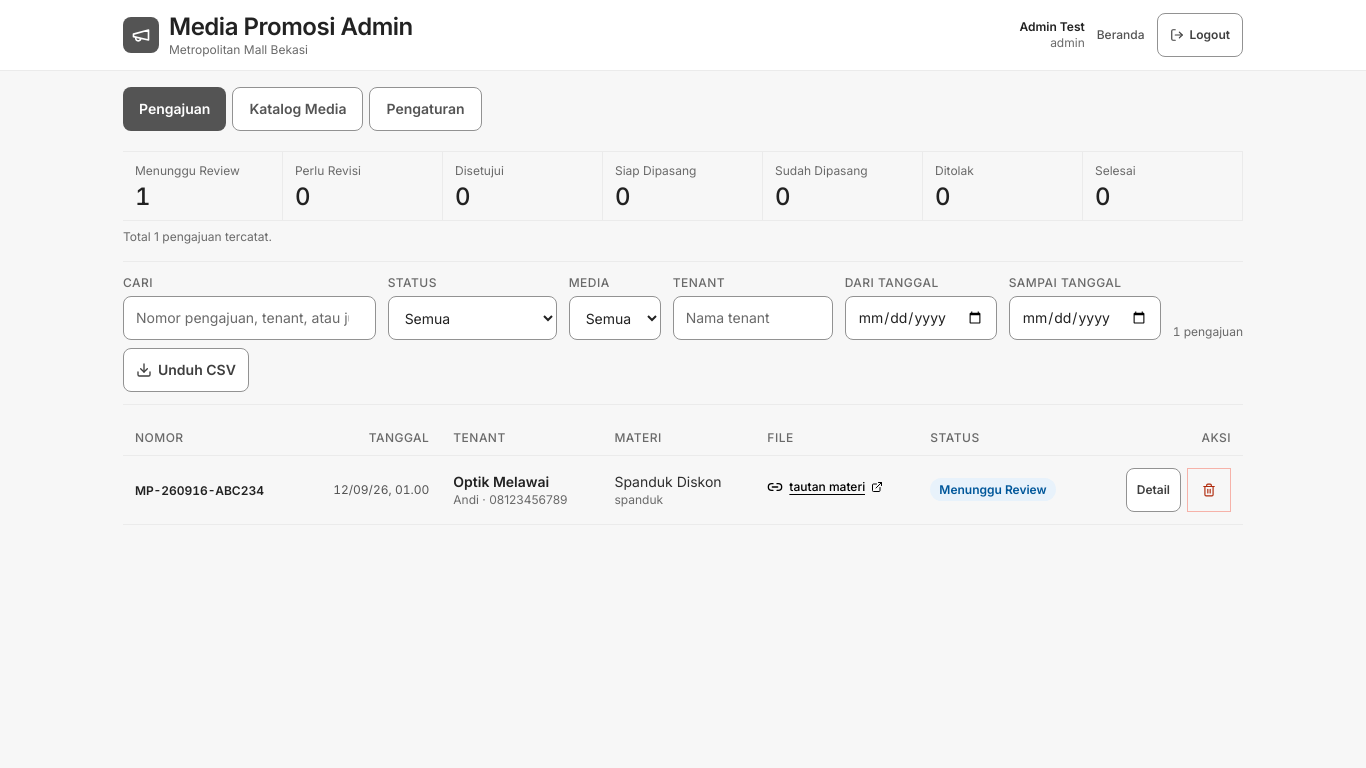
Test: AdminDashboardPage - kanal link dan upload tidak berubah › kanal link tetap menaut ke link_url di tabel dan Sheet
Expected: the text "Optik Melawai" is shown, [453, 472, 549, 490]
Click the button "Detail" at (1153, 490), box [1126, 468, 1181, 512]
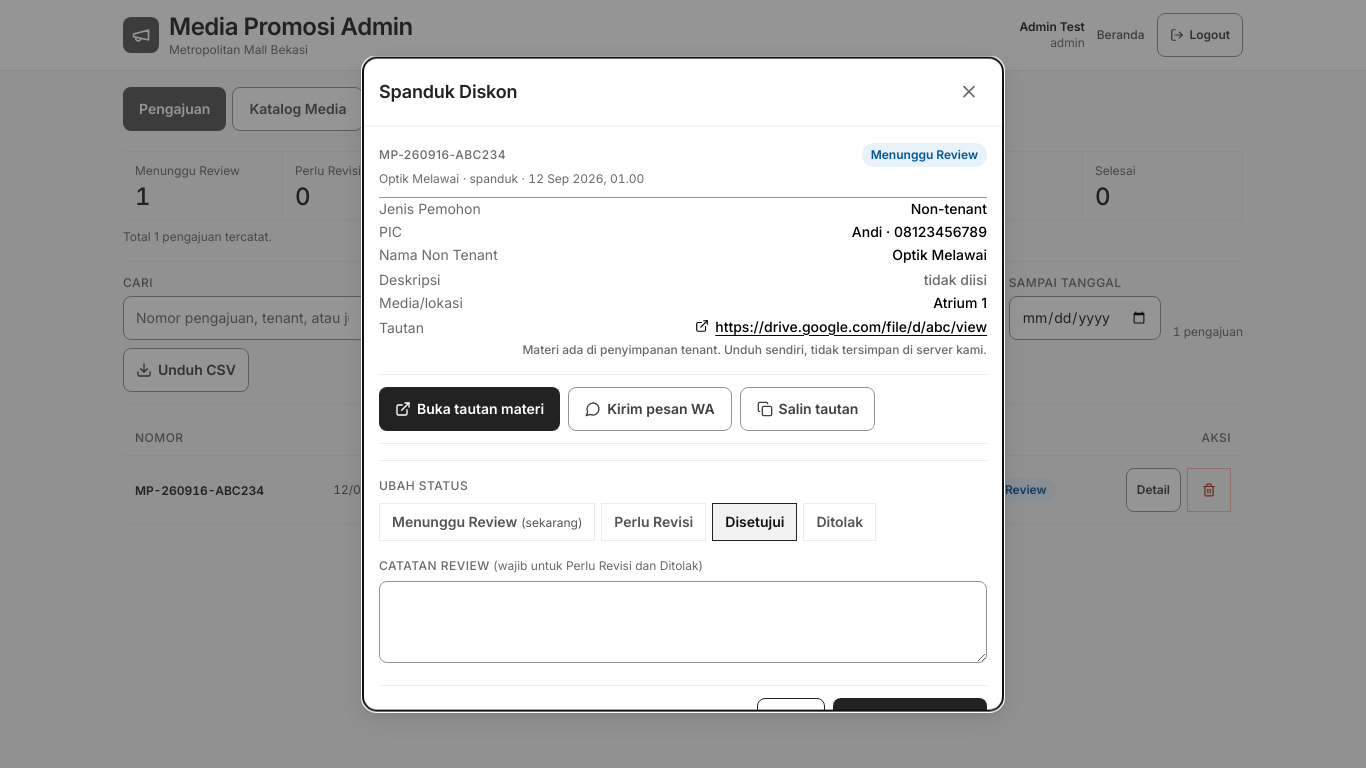
Expected: the dialog is shown, [363, 58, 1003, 710]
Expected: the text "Jenis Pemohon" is shown, [379, 198, 481, 219]
